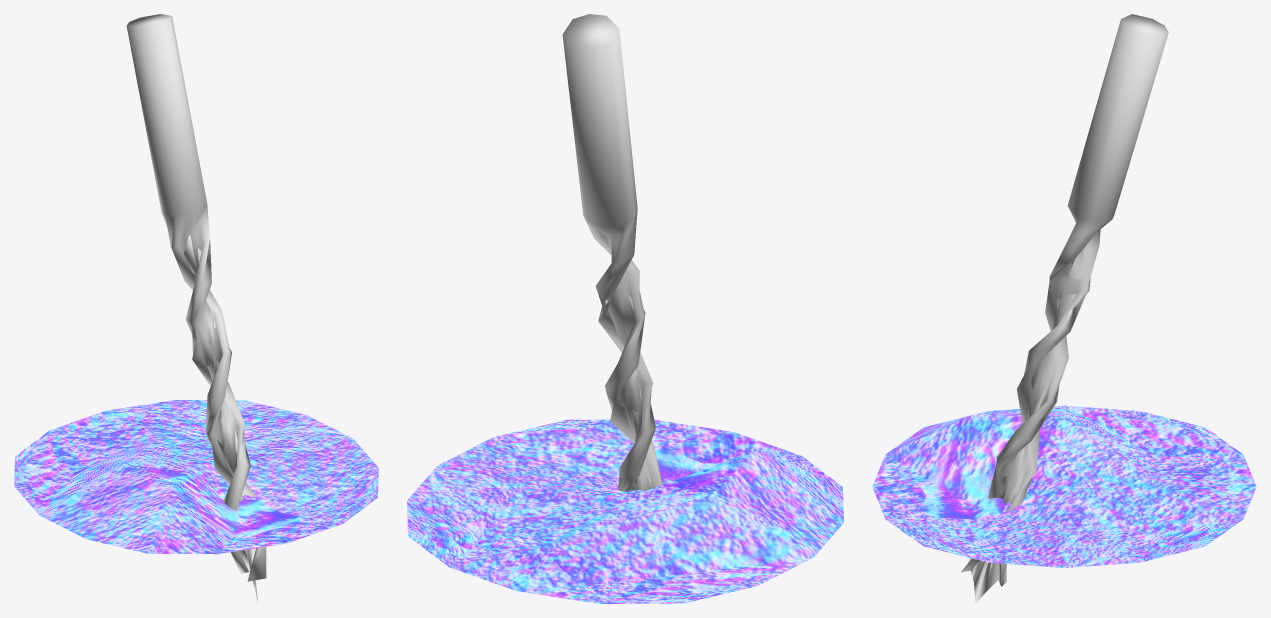
File: cauldronbitz.glb
3 renders of one model, left to right at view 1: azimuth 30°, elevation 25°; view 2: azimuth 150°, elevation 25°; view 3: azimuth 270°, elevation 25°, orthographic. The views are drawn at different scales.
Visible parts, largest first — view 1: Liquid, drillBit; view 2: Liquid, drillBit; view 3: Liquid, drillBit.
Part boxes in pixels (left/top/right/bottom): Liquid: left=14, top=400, right=378, bottom=554; drillBit: left=126, top=14, right=266, bottom=602; Liquid: left=407, top=419, right=843, bottom=603; drillBit: left=562, top=14, right=662, bottom=491; Liquid: left=872, top=405, right=1256, bottom=567; drillBit: left=961, top=14, right=1168, bottom=603.
Size of the model in its own units: 1.95 by 3.19 by 1.95.
